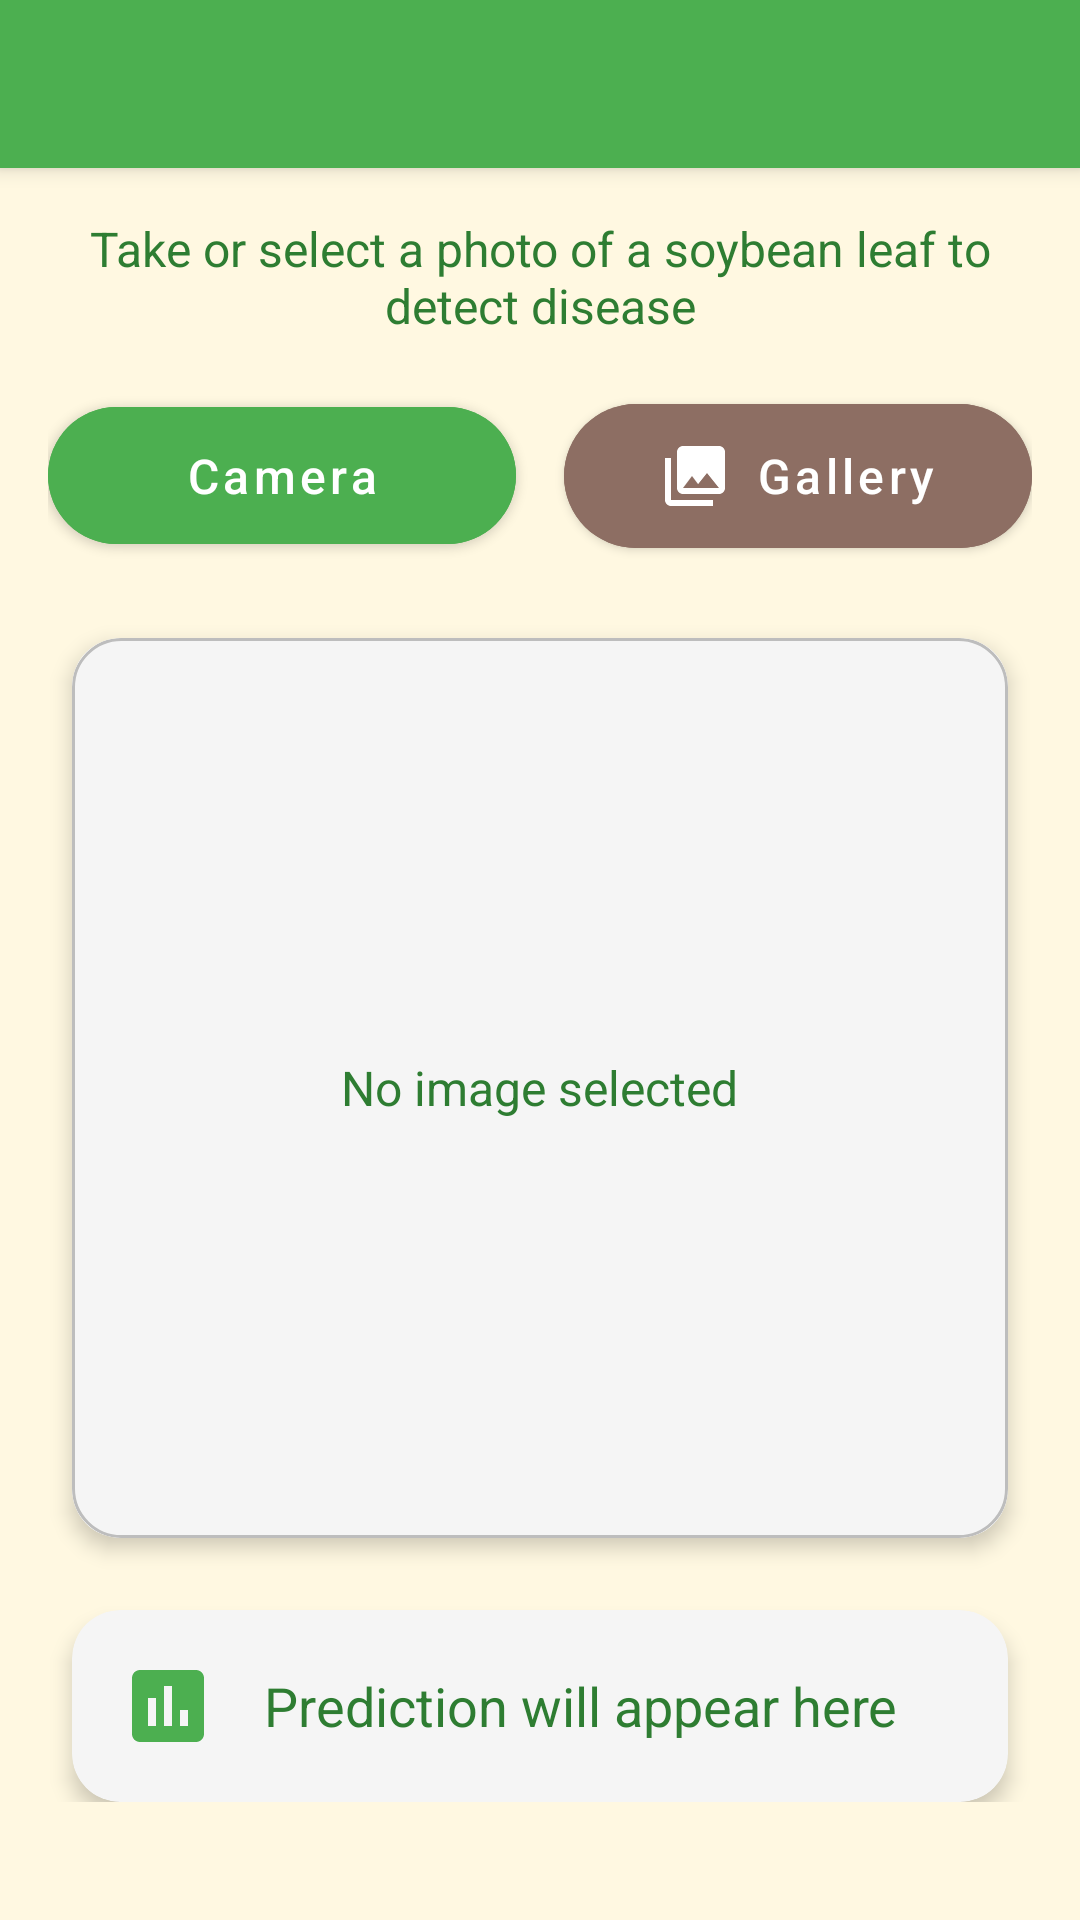

Screen size 1080 x 1920. Icon name, then its box in pixels as (x1, y1, x2, y2):
Result icon: (132, 1670, 204, 1742)
